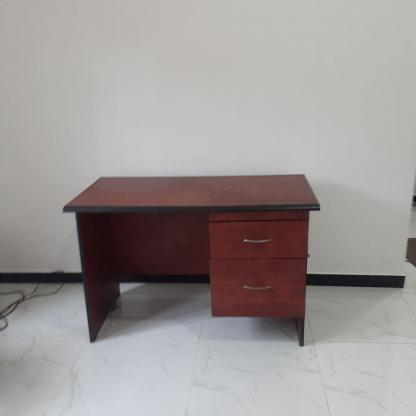Ceramic floor: (0, 265, 416, 416)
Table: (63, 165, 335, 362)
